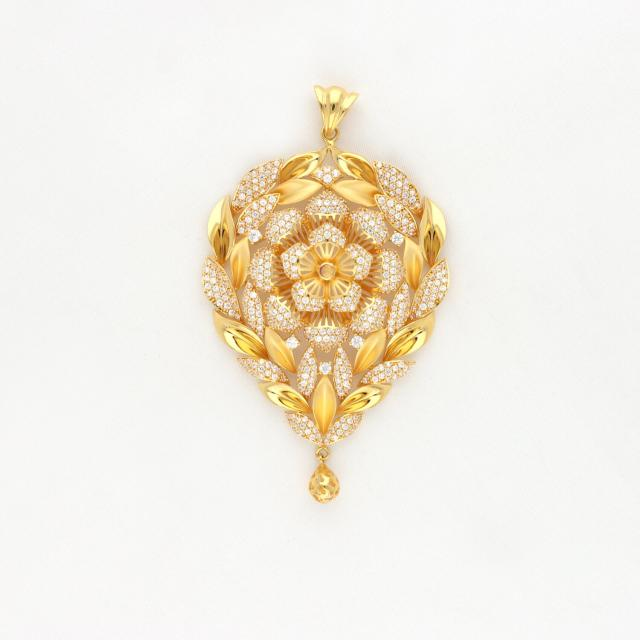missing gem: (321, 265, 333, 277)
